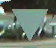Give way: (5, 4, 48, 42)
